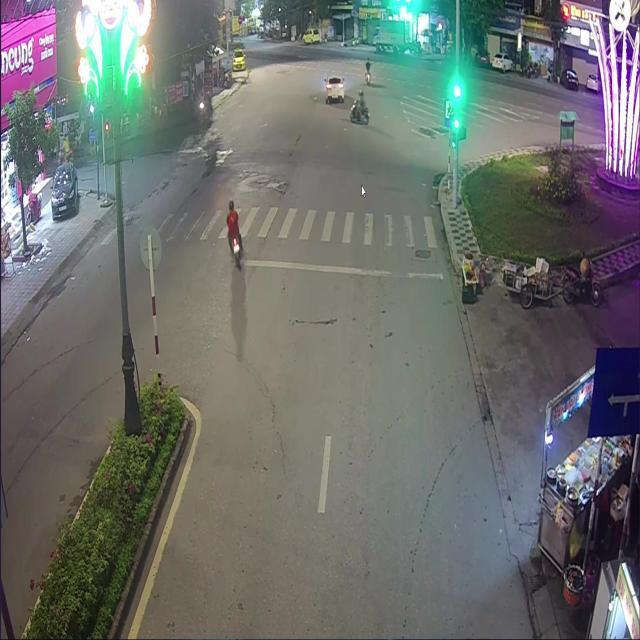car: (325, 75, 343, 102)
green_light: (452, 99, 459, 128)
motobike: (228, 234, 242, 270), (349, 99, 368, 124)
stop_line: (231, 258, 442, 280)
